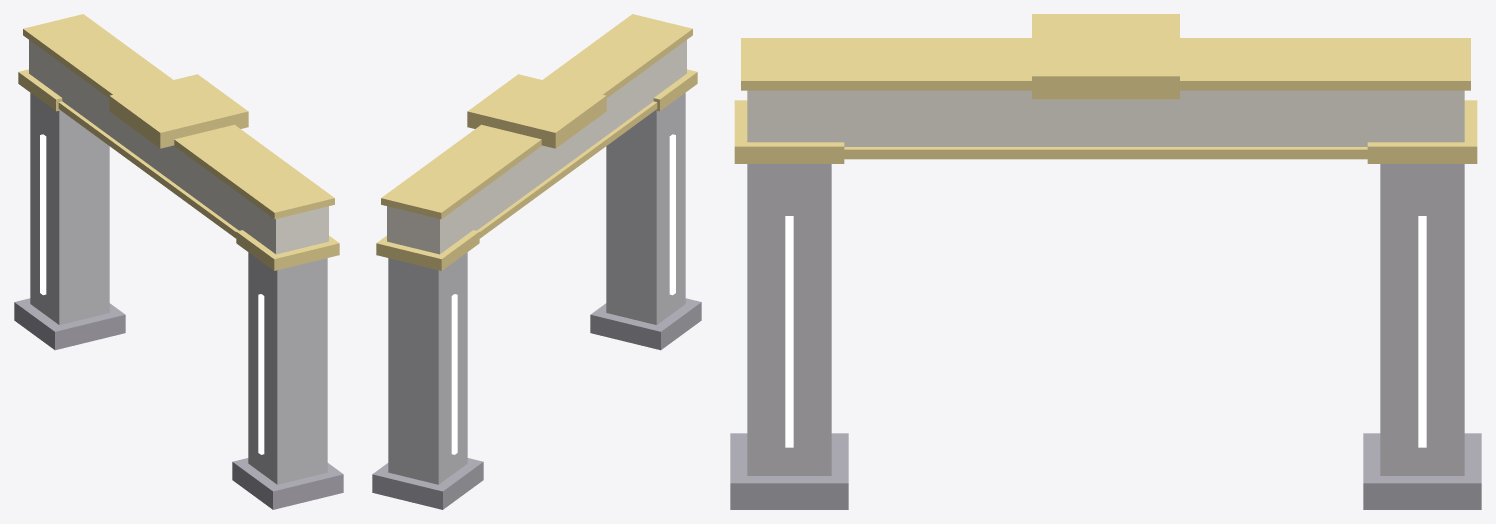
The model's file is PlazaArch.glb.
3 renders of one model, left to right at view 1: azimuth 30°, elevation 25°; view 2: azimuth 150°, elevation 25°; view 3: azimuth 270°, elevation 25°, orthographic. The views are drawn at different scales.
Visible parts, largest first — view 1: PlazaArch_1, PlazaArch_2, PlazaArch_4, PlazaArch_0, PlazaArch_3; view 2: PlazaArch_1, PlazaArch_2, PlazaArch_4, PlazaArch_0, PlazaArch_3; view 3: PlazaArch_2, PlazaArch_1, PlazaArch_4, PlazaArch_0, PlazaArch_3.
Part boxes in pixels (bbox=[...]): PlazaArch_1: bbox=[30, 93, 327, 484]; PlazaArch_2: bbox=[18, 14, 339, 270]; PlazaArch_4: bbox=[29, 40, 328, 254]; PlazaArch_0: bbox=[14, 298, 343, 509]; PlazaArch_3: bbox=[40, 134, 264, 454]; PlazaArch_1: bbox=[388, 93, 685, 484]; PlazaArch_2: bbox=[376, 14, 697, 270]; PlazaArch_4: bbox=[387, 40, 686, 254]; PlazaArch_0: bbox=[372, 298, 701, 509]; PlazaArch_3: bbox=[451, 134, 675, 454]; PlazaArch_2: bbox=[734, 14, 1477, 163]; PlazaArch_1: bbox=[747, 164, 1464, 475]; PlazaArch_4: bbox=[747, 90, 1464, 146]; PlazaArch_0: bbox=[730, 433, 1481, 509]; PlazaArch_3: bbox=[785, 216, 1426, 447].
Size of the model in its own units: 7 by 23 by 35.6.
